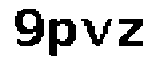9: (11, 5, 44, 52)
p: (47, 17, 77, 60)
v: (79, 16, 113, 48)
z: (118, 17, 150, 50)
